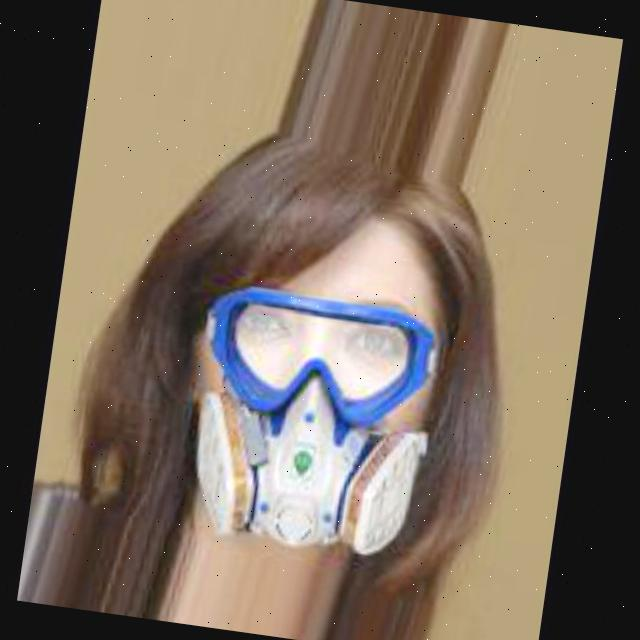suspicion: (136, 188, 468, 544)
